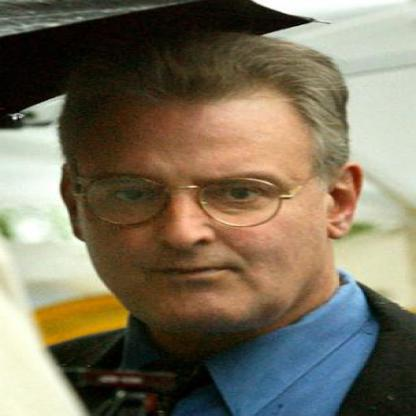face: (66, 41, 337, 333)
